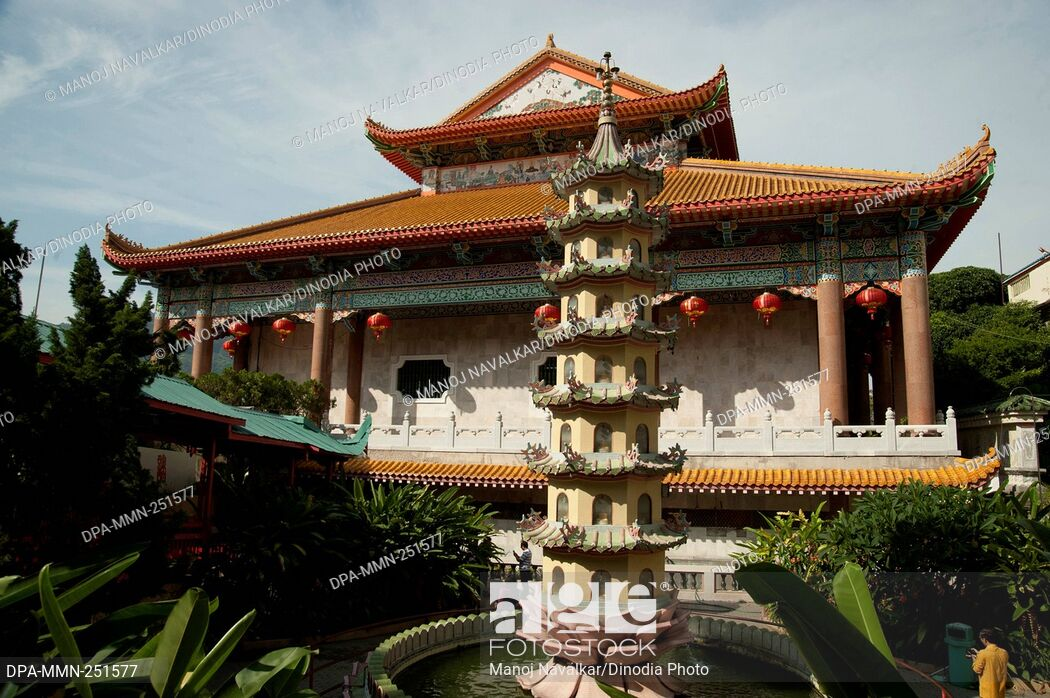Buddhist Temple: (177, 40, 958, 531)
